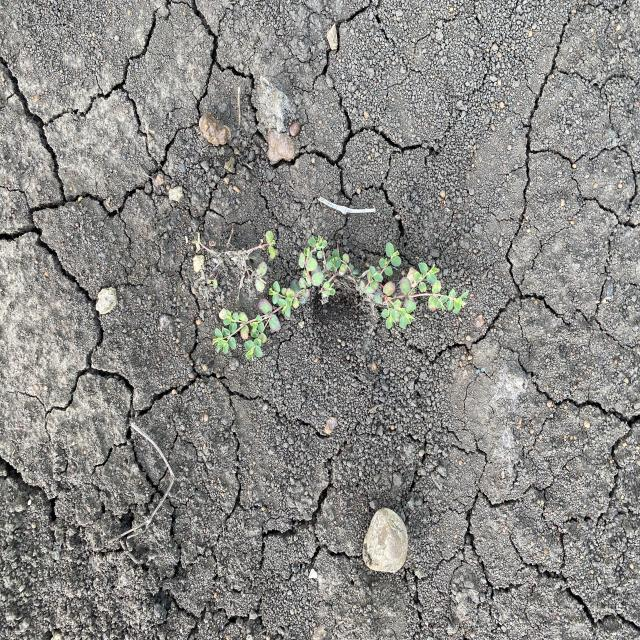SpottedSpurge: (211, 230, 470, 364)
